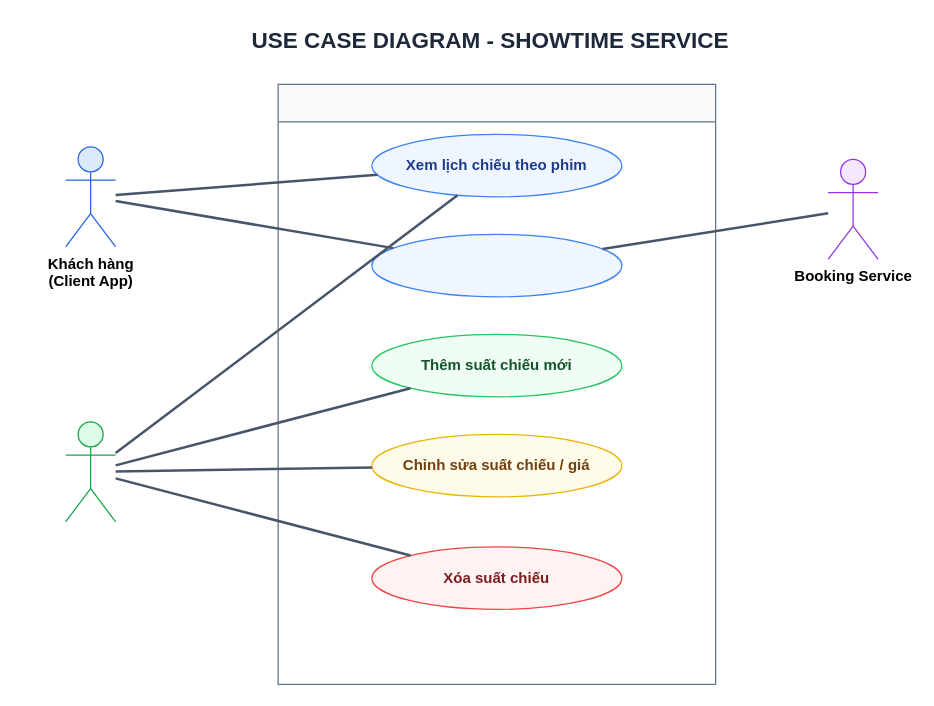
The diagram is 934 pixels wide and 706 high, and some of its shapes have lost their labels. The shapes that lost their labels are listed below. From the top down, each one's box as (x1, y1, x2, y2) in pixels, then its label:
(371, 233, 622, 297): Xem chi tiết suất chiếu
(277, 83, 716, 684): Showtime Service (:5002)
(64, 421, 116, 522): Quản trị viên (Admin Dashboard)
